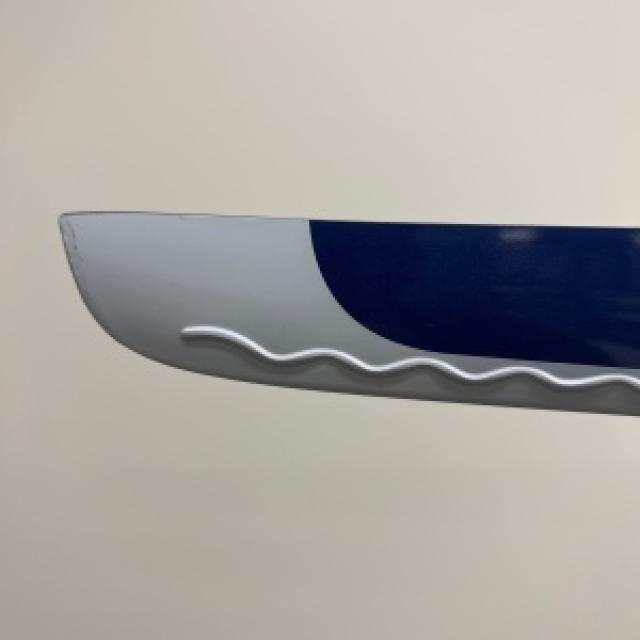healthy: (58, 211, 638, 414)
